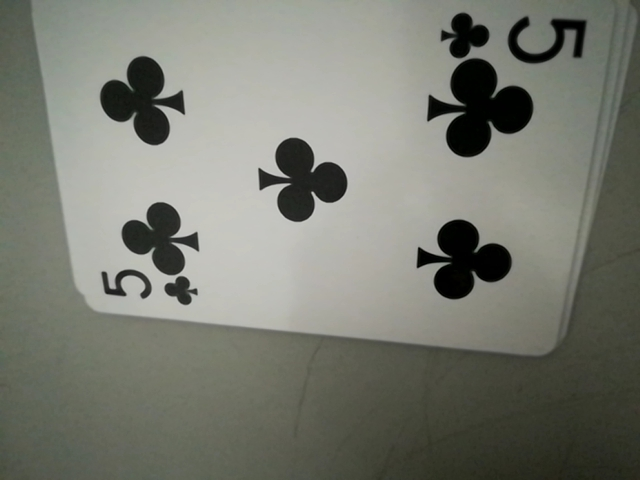mh 5: (436, 7, 589, 65), (92, 263, 207, 313)
